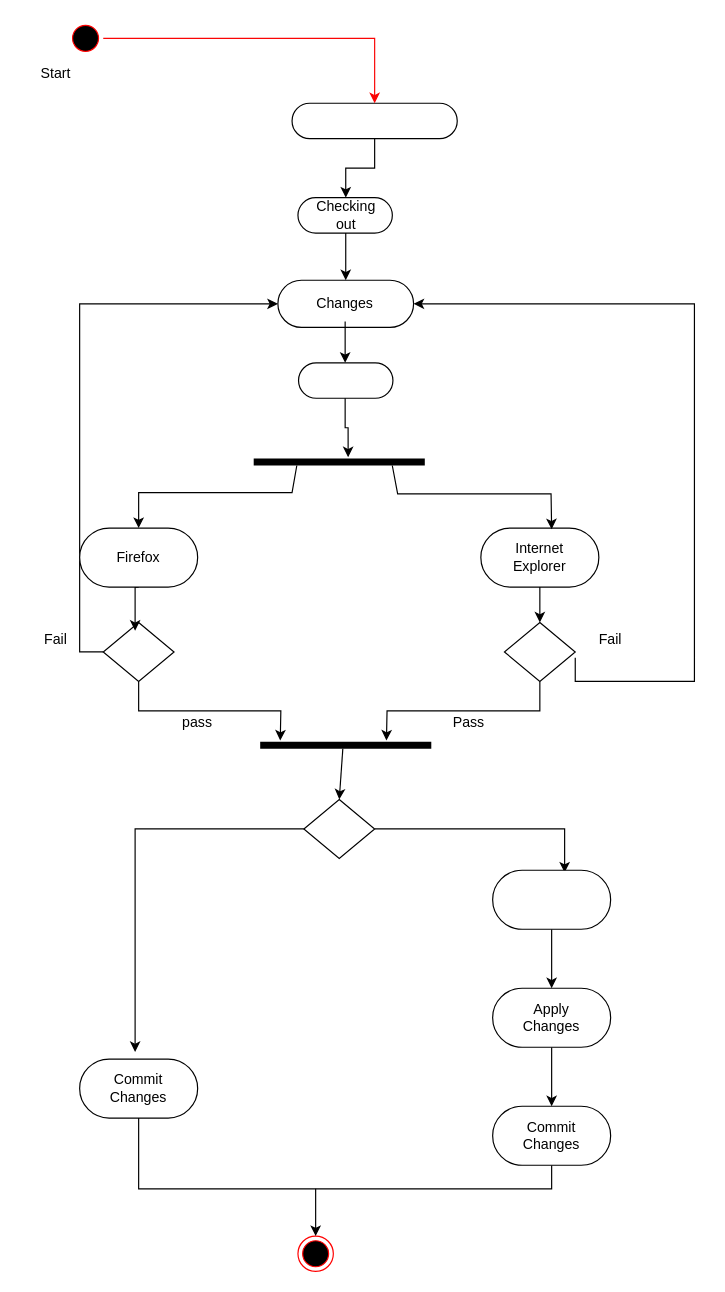
Some shapes in this 725 by 1292 pixel diagram are drawn without their labels. Each missing label, with the centre of its shape:
"Generate File" goes at point 551,899.
"Subversion Repository" goes at point 374,120.
"Test" goes at point 345,380.
